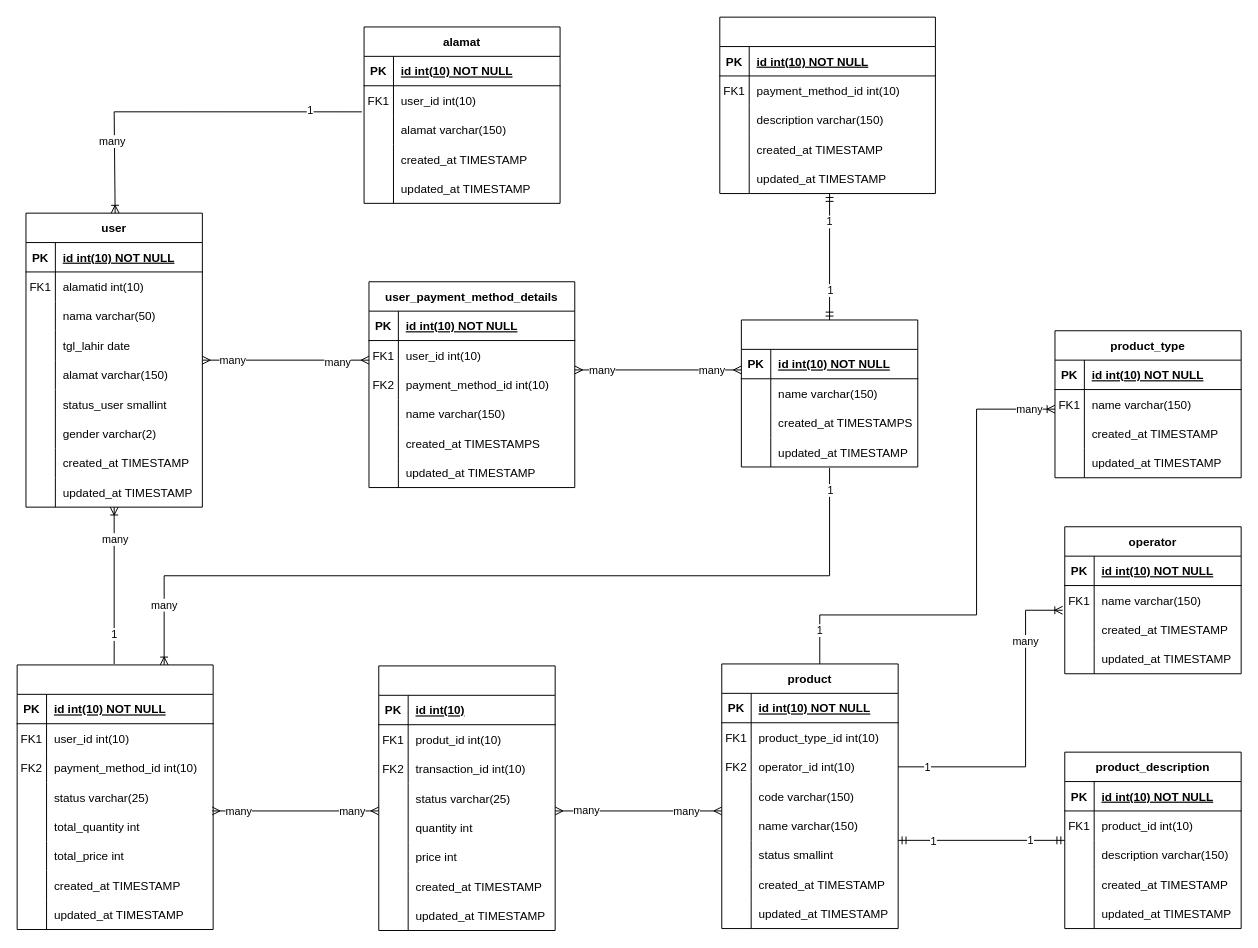
This 1258x948 diagram has some shape labels left out. The box of each missing label's shape, as (x1, y1, x2, y2) in pixels:
payment_method: (740, 319, 918, 467)
payment_method_description: (719, 16, 935, 194)
transaction: (16, 664, 213, 930)
transaction_details: (378, 665, 555, 931)
